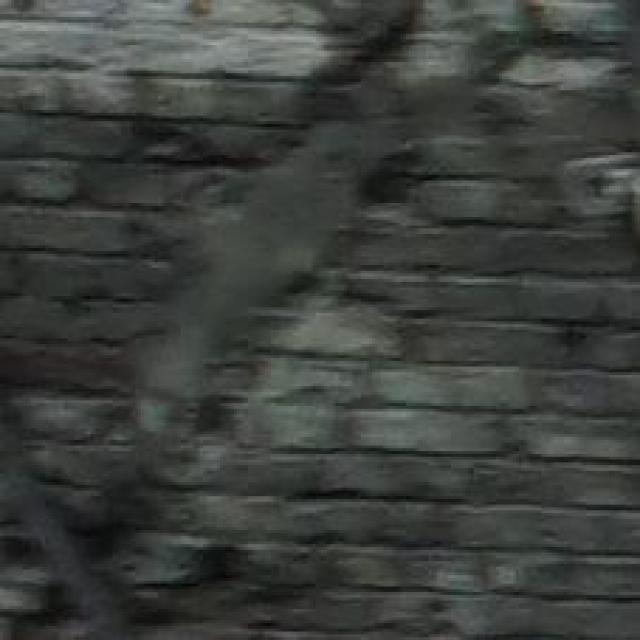Crack: (87, 25, 400, 531)
